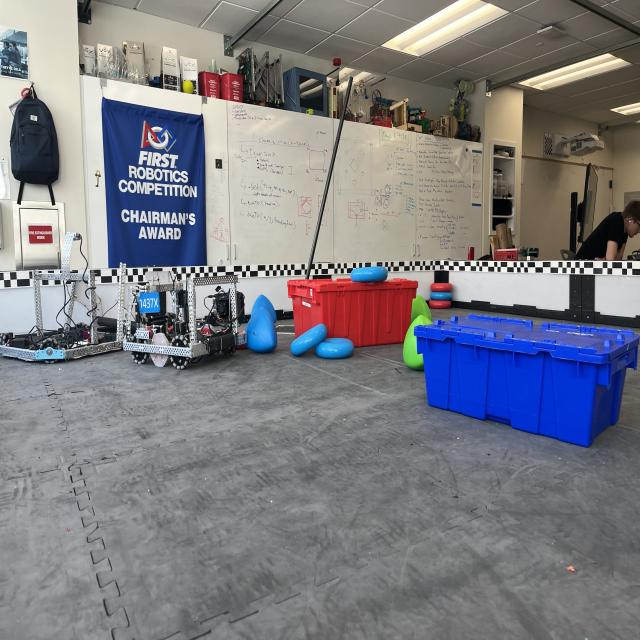Blue-Ring: (290, 323, 328, 355), (315, 338, 354, 358), (351, 267, 388, 282), (430, 292, 452, 300)
Red-Ring: (430, 283, 452, 292), (429, 300, 451, 308)
